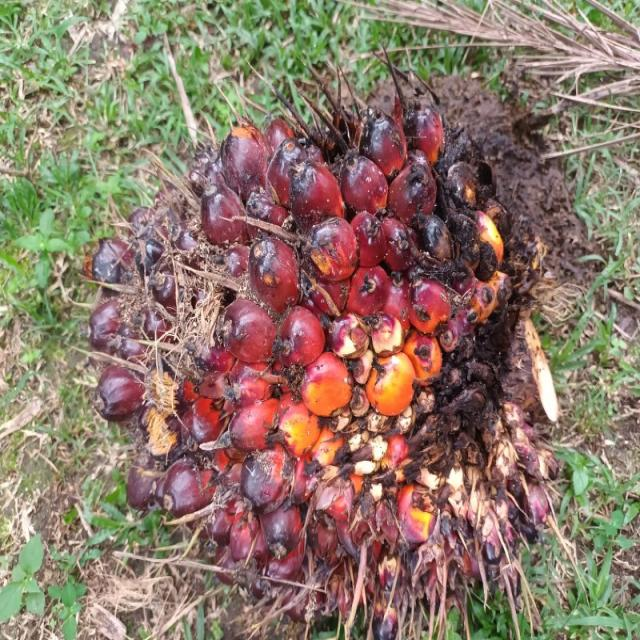fraksi 1: (55, 34, 561, 611)
